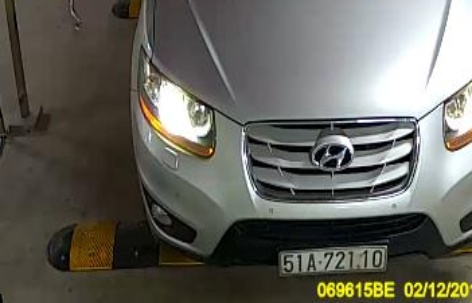plate: (274, 236, 390, 278)
